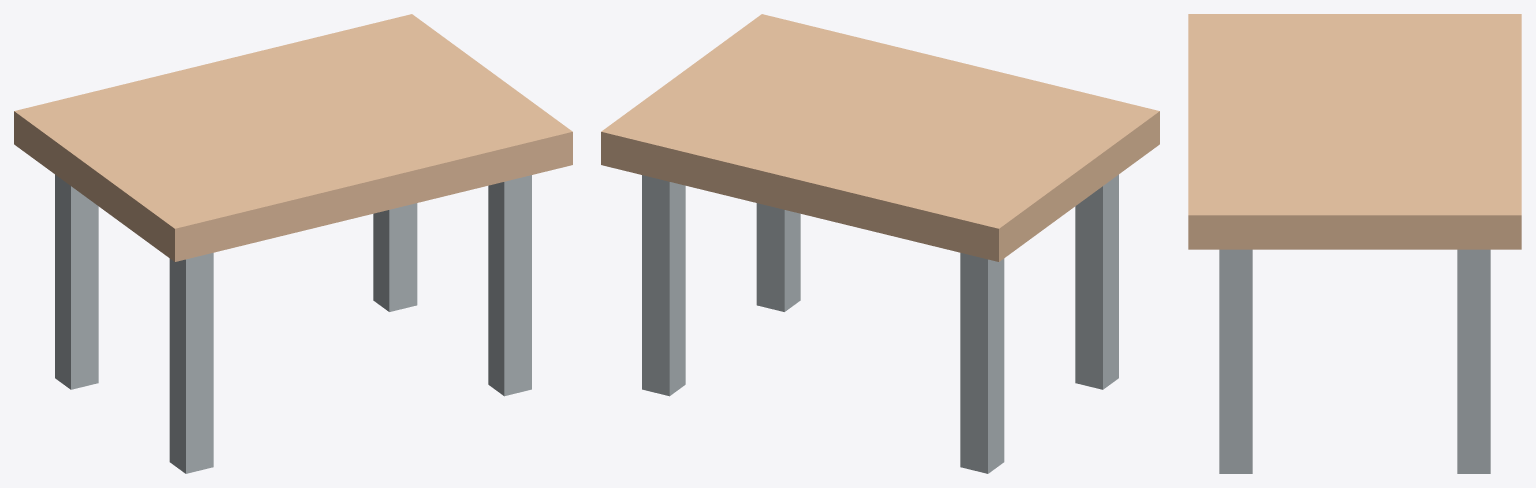
File: workbench.glb
3 views of the same model, side by side, from view 1: azimuth 30°, elevation 25°; view 2: azimuth 150°, elevation 25°; view 3: azimuth 270°, elevation 25° (orthographic). The views are drawn at different scales.
Bounding box in the file's own units: 1 × 0.63 × 0.7.
